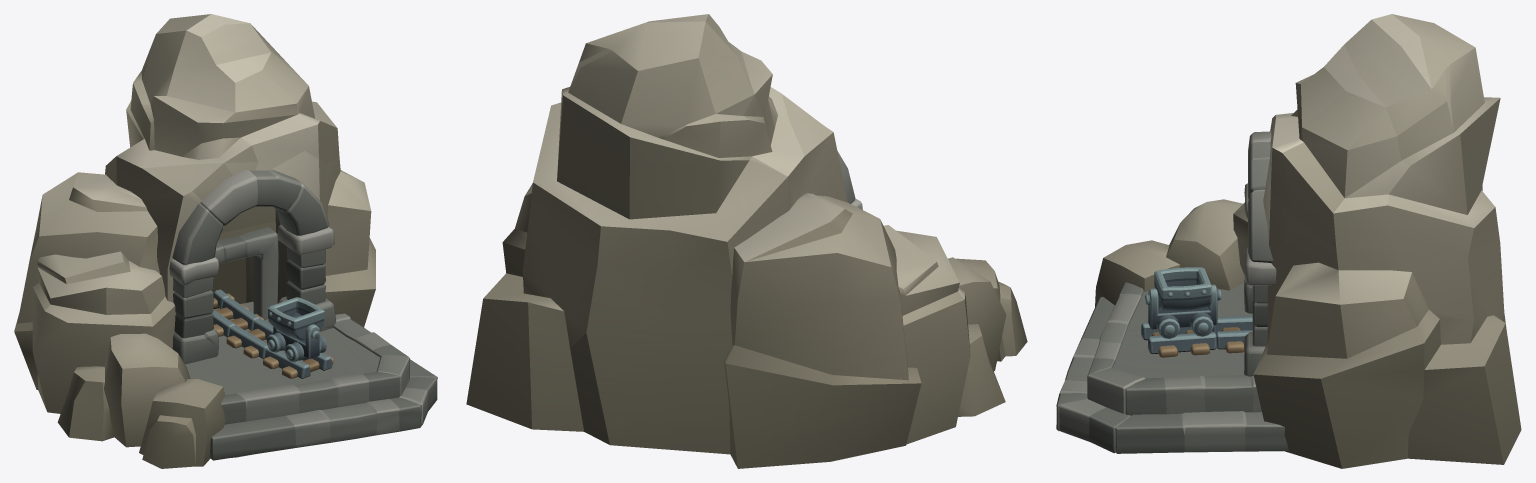
The model's file is smallMine.glb.
The picture shows the model from 3 angles, left to right: view 1: azimuth 30°, elevation 25°; view 2: azimuth 150°, elevation 25°; view 3: azimuth 270°, elevation 25°; orthographic projection. The views are drawn at different scales.
Parts seen in each view (by area): view 1: mine_Lv1, mine_Lv1_minecart_tipping_bucket, mine_Lv1_minecart; view 2: mine_Lv1; view 3: mine_Lv1, mine_Lv1_minecart_tipping_bucket, mine_Lv1_minecart.
Boxes of the visible parts, bbox=[...] form: mine_Lv1: bbox=[14, 14, 437, 468]; mine_Lv1_minecart_tipping_bucket: bbox=[268, 297, 324, 340]; mine_Lv1_minecart: bbox=[267, 324, 326, 362]; mine_Lv1: bbox=[466, 14, 1027, 468]; mine_Lv1: bbox=[1056, 14, 1521, 468]; mine_Lv1_minecart_tipping_bucket: bbox=[1145, 267, 1221, 310]; mine_Lv1_minecart: bbox=[1148, 284, 1217, 338].
Bounding box in the file's own units: 10.94 × 9.56 × 10.98.
1 material, 1 textured.
